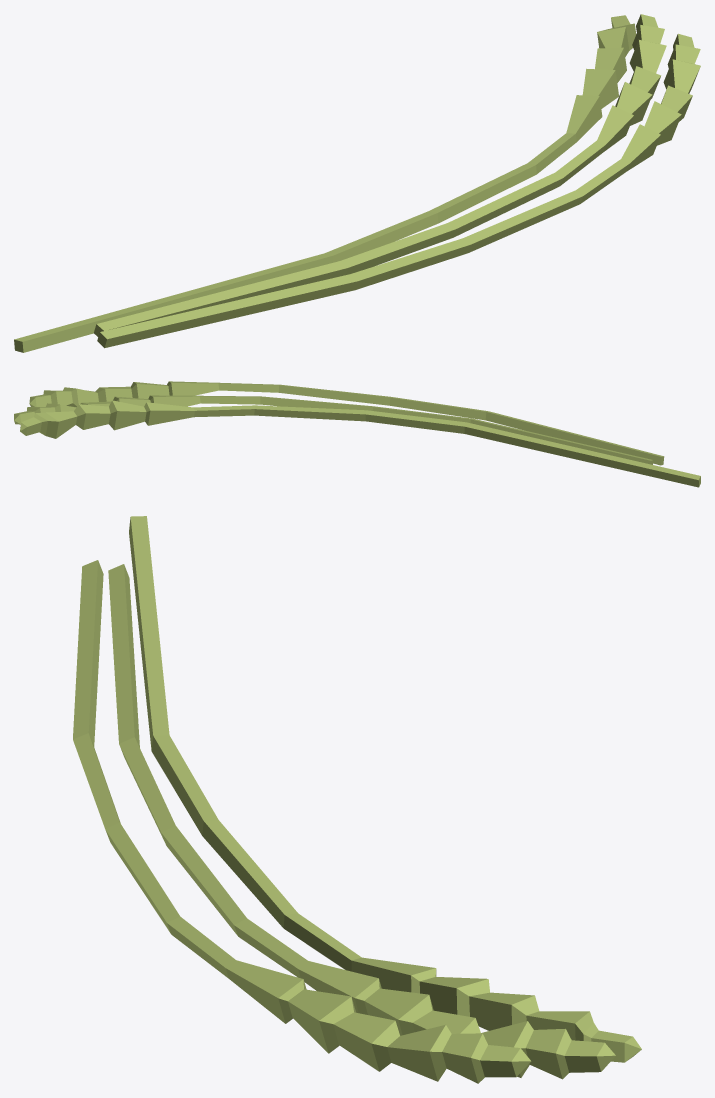
File: rice_crop.gltf
The picture shows the model from 3 angles, top to bottom: view 1: azimuth 30°, elevation 25°; view 2: azimuth 150°, elevation 25°; view 3: azimuth 270°, elevation 25°; orthographic projection. The views are drawn at different scales.
Parts seen in each view (by area): view 1: rice_crop; view 2: rice_crop; view 3: rice_crop.
Part boxes in pixels (<box>): rice_crop: <box>14,14,700,352</box>; rice_crop: <box>14,381,700,487</box>; rice_crop: <box>73,516,641,1083</box>.
Size of the model in its own units: 0.9063 by 0.0457 by 0.3868.
Materials: 1 (1 with a texture image).
